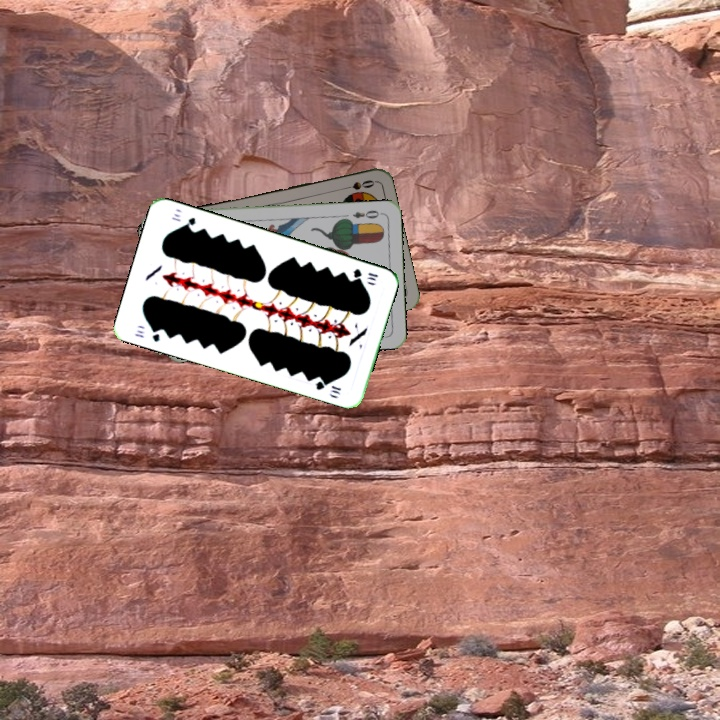EO: (349, 206, 385, 221)
G10: (130, 324, 162, 344), (349, 265, 380, 283)
SO: (337, 176, 377, 193)
